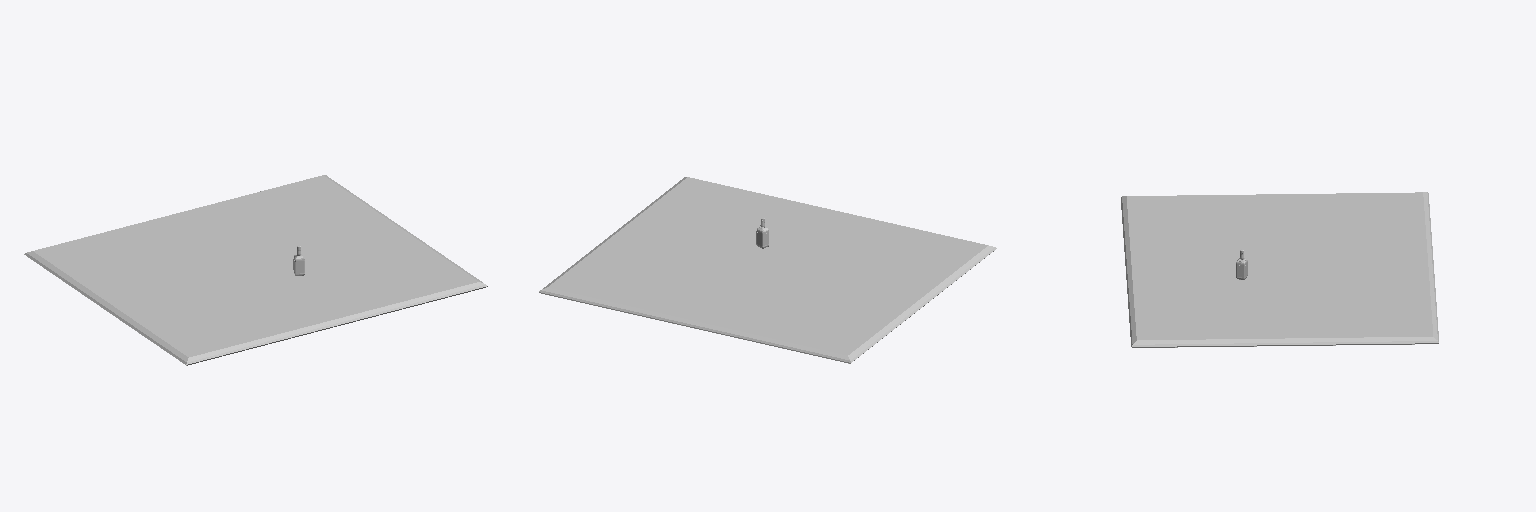
Rendered from łycha.obj.
3 views of the same model, side by side, from view 1: azimuth 30°, elevation 25°; view 2: azimuth 150°, elevation 25°; view 3: azimuth 270°, elevation 25° (orthographic).
Parts seen in each view (by area): view 1: Plane; view 2: Plane; view 3: Plane.
Boxes of the visible parts, x1,y1,x2,y2 form: Plane: [24, 175, 487, 365]; Plane: [539, 177, 996, 363]; Plane: [1121, 192, 1438, 347].
Bounding box in the file's own units: 2.95 × 0.323 × 2.59.